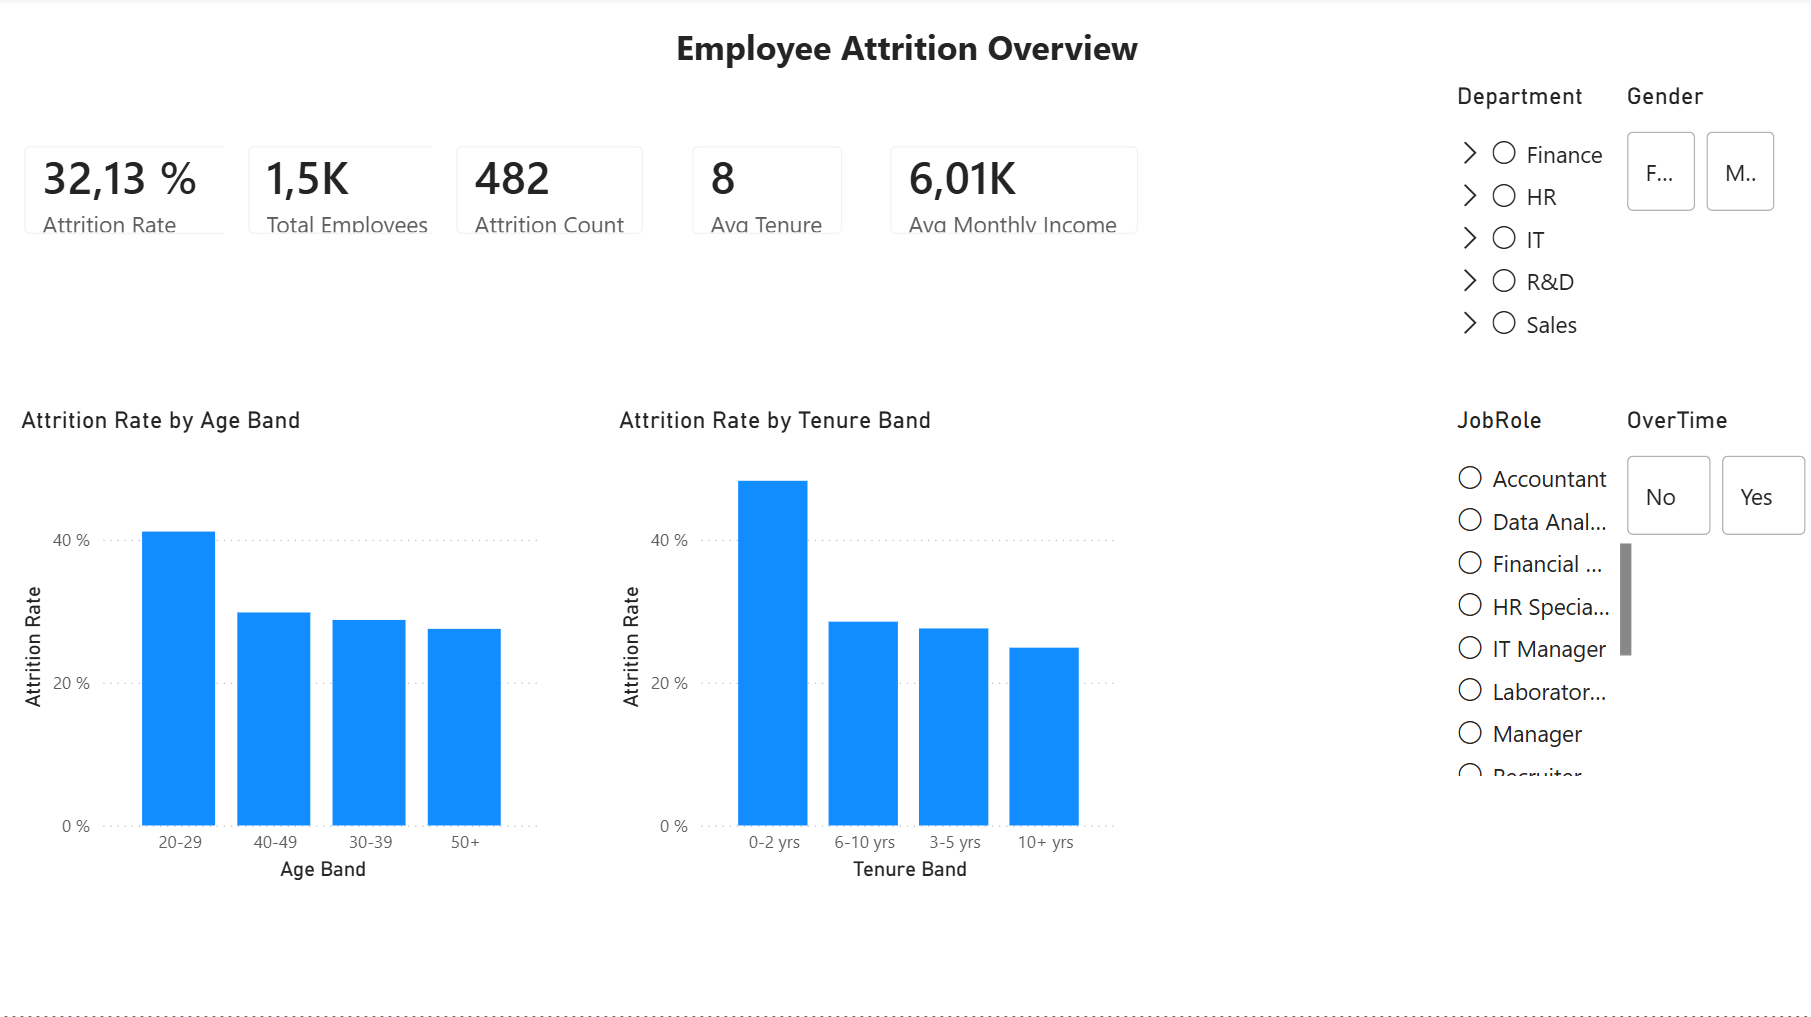

The dashboard page shown, as its layout file describes it:
{"tool":"powerbi","page":{"name":"Page 1","canvas":[1280,720],"ordinal":0},"visuals":[{"type":"textbox","box":[0,13.9,1280,46.8],"z":0},{"type":"cardVisual","fields":{"Data":["Employees.Attrition Rate"]},"box":[0,88.3,230.4,97],"z":1000},{"type":"cardVisual","fields":{"Data":["Employees.Total Employees"]},"box":[157.6,88.3,173.2,97],"z":2000},{"type":"cardVisual","fields":{"Data":["Employees.Attrition Count"]},"box":[304.8,88.3,166.3,97],"z":3000},{"type":"cardVisual","fields":{"Data":["Employees.Avg Tenure"]},"box":[471.1,88.3,140.3,97],"z":4000},{"type":"cardVisual","fields":{"Data":["Employees.Avg Monthly Income"]},"box":[611.4,88.3,209.6,97],"z":5000},{"type":"clusteredColumnChart","fields":{"Category":["Employees.Age Band"],"Y":["Employees.Attrition Rate"]},"box":[10.4,289.3,377.6,339.5],"z":6000},{"type":"clusteredColumnChart","fields":{"Category":["Employees.Tenure Band"],"Y":["Employees.Attrition Rate"]},"box":[431.3,289.3,362,339.5],"z":7000},{"type":"listSlicer","fields":{"Values":["Employees.Department","Employees.Gender"]},"box":[1023.7,60.6,119.5,200.9],"z":8000},{"type":"advancedSlicerVisual","fields":{"Values":["Employees.Gender"]},"box":[1143.2,60.6,114.3,97],"z":9000},{"type":"listSlicer","fields":{"Values":["Employees.JobRole"]},"box":[1023.7,289.3,133.4,266.7],"z":10000},{"type":"advancedSlicerVisual","fields":{"Values":["Employees.OverTime"]},"box":[1143.2,289.3,136.8,97],"z":11000}]}

Visuals, with their boxes in screenshot pixels (x1, y1, x2, y2), scaled from the page's 1280x720 canvas onto the 1811x1017 screenshot:
textbox: <region>0, 20, 1810, 86</region>
cardVisual - Employees.Attrition Rate: <region>0, 125, 326, 262</region>
cardVisual - Employees.Total Employees: <region>223, 125, 468, 262</region>
cardVisual - Employees.Attrition Count: <region>431, 125, 667, 262</region>
cardVisual - Employees.Avg Tenure: <region>667, 125, 865, 262</region>
cardVisual - Employees.Avg Monthly Income: <region>865, 125, 1162, 262</region>
clusteredColumnChart - Employees.Age Band x Employees.Attrition Rate: <region>15, 409, 549, 888</region>
clusteredColumnChart - Employees.Tenure Band x Employees.Attrition Rate: <region>610, 409, 1122, 888</region>
listSlicer - Employees.Department x Employees.Gender: <region>1448, 86, 1617, 369</region>
advancedSlicerVisual - Employees.Gender: <region>1617, 86, 1779, 223</region>
listSlicer - Employees.JobRole: <region>1448, 409, 1637, 785</region>
advancedSlicerVisual - Employees.OverTime: <region>1617, 409, 1810, 546</region>
